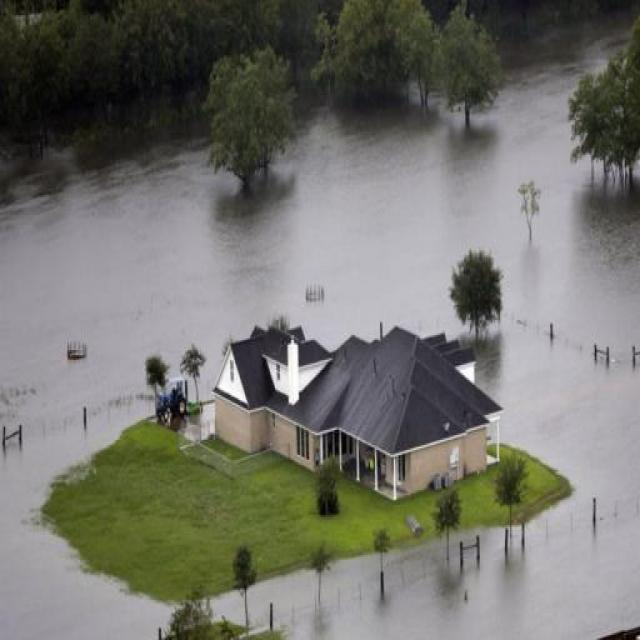flood: (0, 43, 640, 640)
house: (215, 317, 502, 498)
